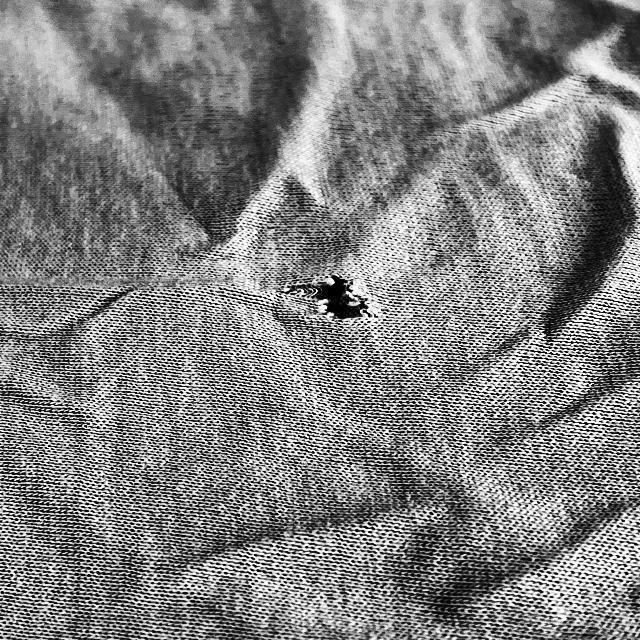Hole: (294, 272, 394, 334)
